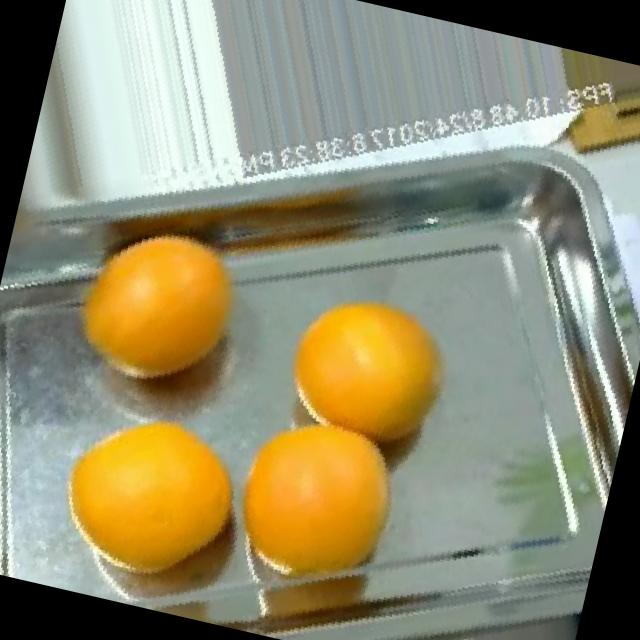Fruit: (18, 373, 288, 630)
